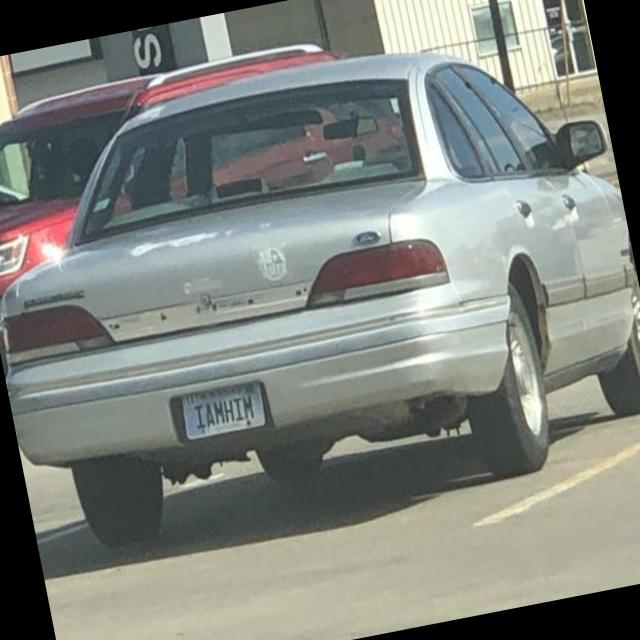LicensePlate: (180, 379, 267, 442)
